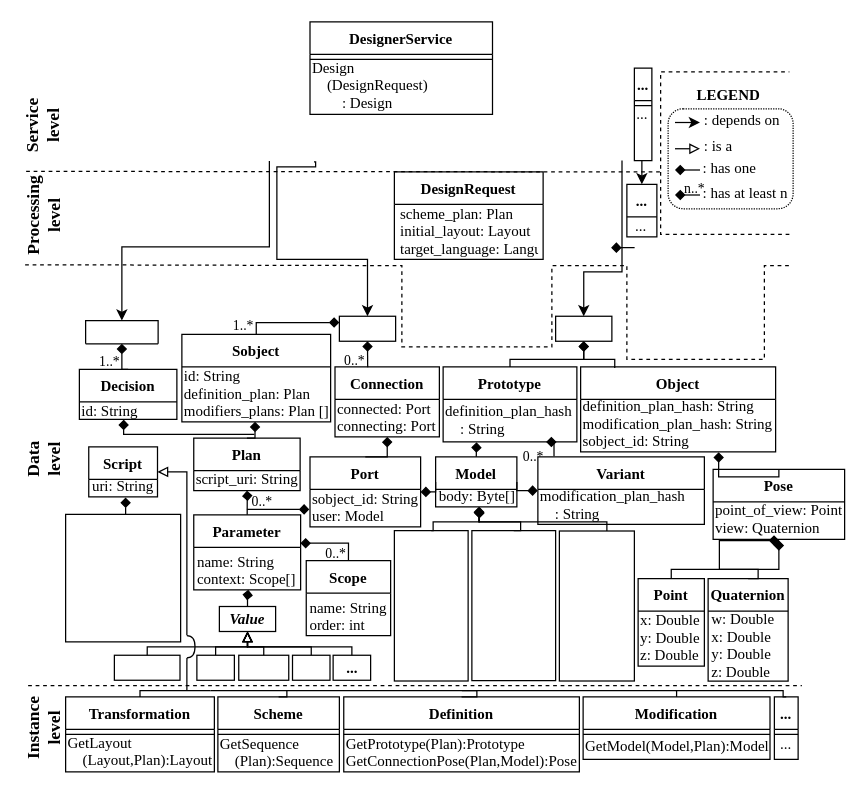
Some shapes in this 866 by 798 pixel diagram are drawn without their labels. Here are the shapes that lost their labels. From the top down, the centre of each, then its label:
At (121,331): "Sequence".
At (367,328): "Layout".
At (583,328): "Design".
At (122,577): "<<enum>> Platform SEMIO GRASSHOPPER PYTHON ...".
At (430,605): "<<enum>> Encoding UTF8 ASCII BASE64 ...".
At (513,605): "<<enum>> Serialization NONE JSON XML YAML ...".
At (596,605): "<<enum>> Language NONE IFC SPECKLE BHOM ...".
At (146,667): "Number".
At (215,667): "Text".
At (263,667): "Curve".
At (310,667): "Brep".
